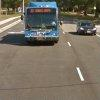Bus: (20, 2, 61, 47)
